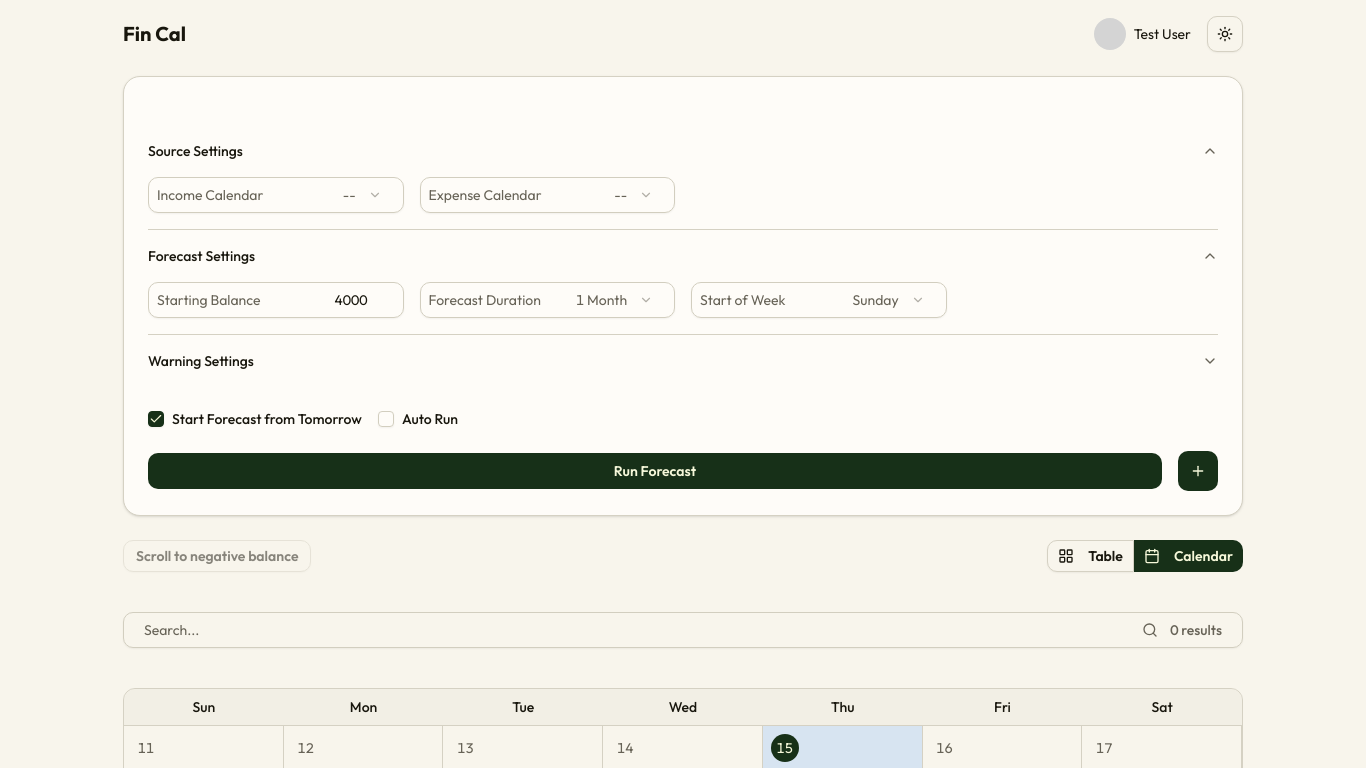
App routes › restores a stored session and renders the forecast controls
expect the text "Income Calendar" is shown: met, box [157,185,263,205]
expect the text "Expense Calendar" is shown: met, box [428,185,542,205]
Click the button "Table" at (1091, 556), box [1047,540,1134,572]
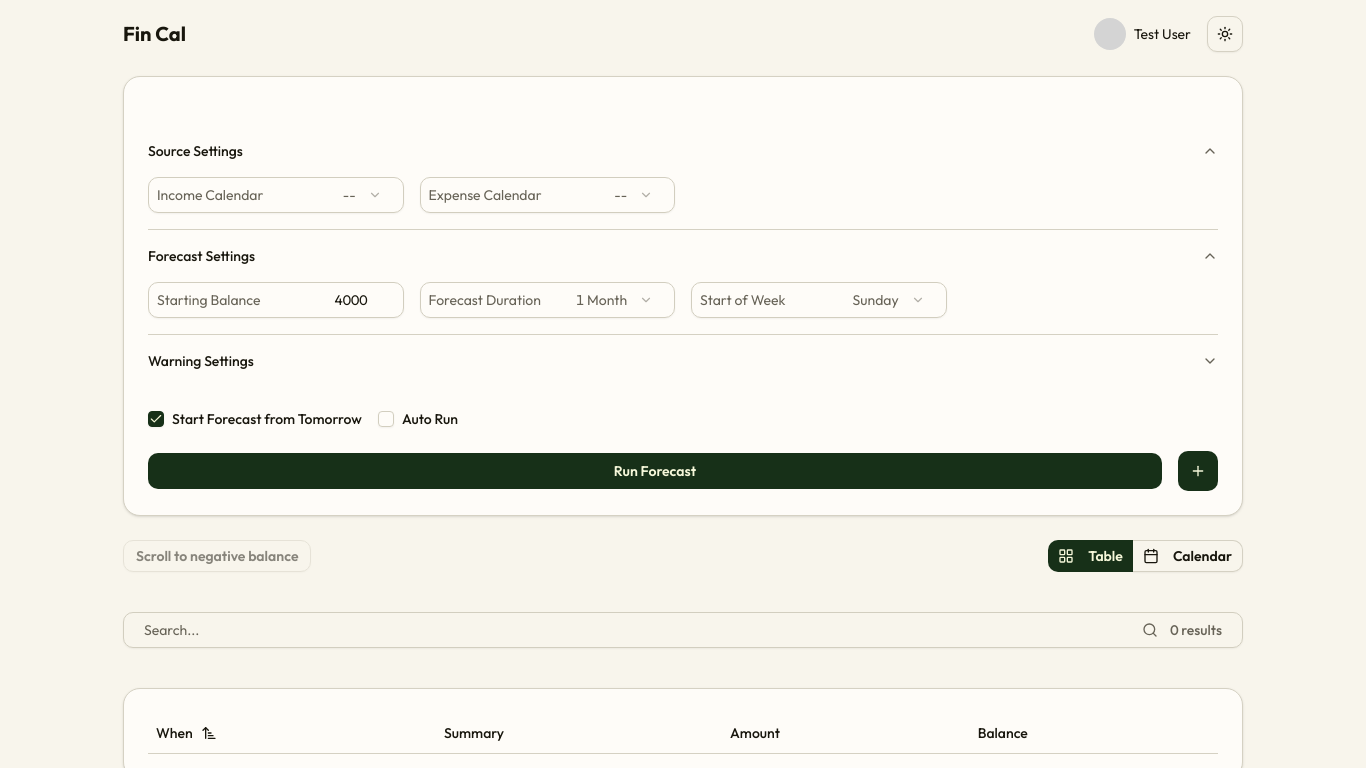
expect the text "When" is shown: met, box [156,724,217,742]
